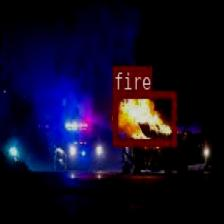fire: (113, 90, 176, 146)
